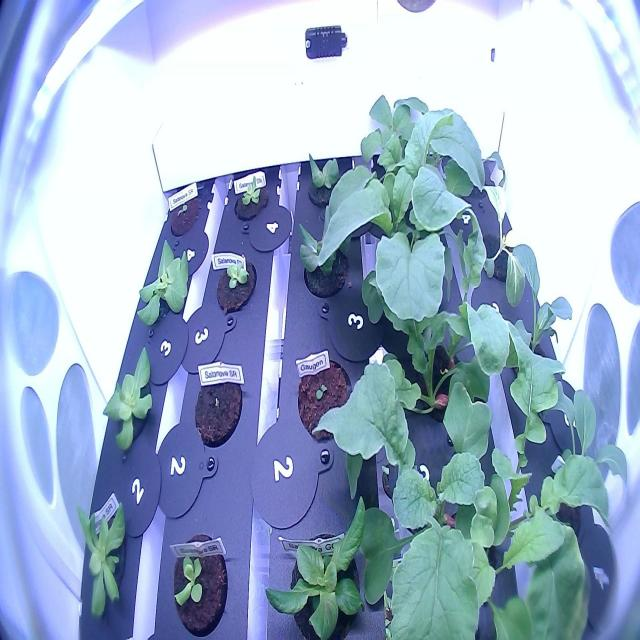germination: (289, 342, 357, 453), (161, 181, 205, 241)
pod: (187, 353, 247, 453)
young: (260, 486, 377, 640), (92, 338, 162, 470), (68, 490, 134, 624), (168, 528, 232, 640), (130, 236, 196, 342), (291, 212, 354, 305), (299, 143, 350, 220), (213, 249, 260, 323), (230, 166, 273, 227)
